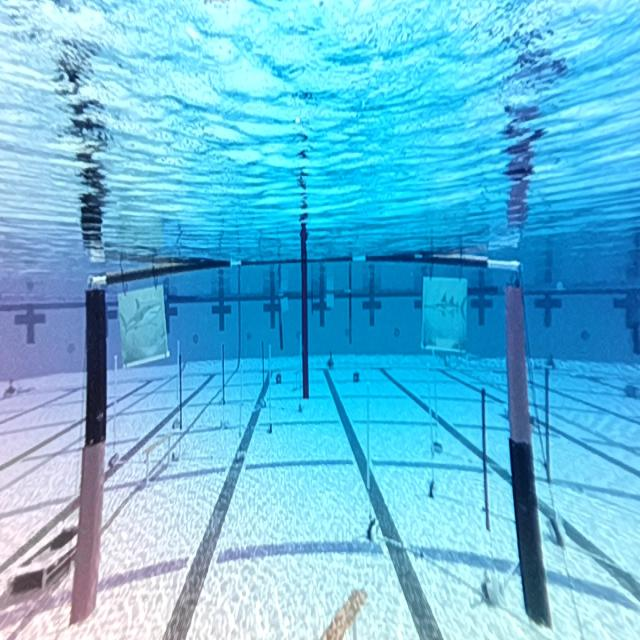pointed_nose: (420, 277, 467, 348)
round_nose: (119, 287, 166, 356)
